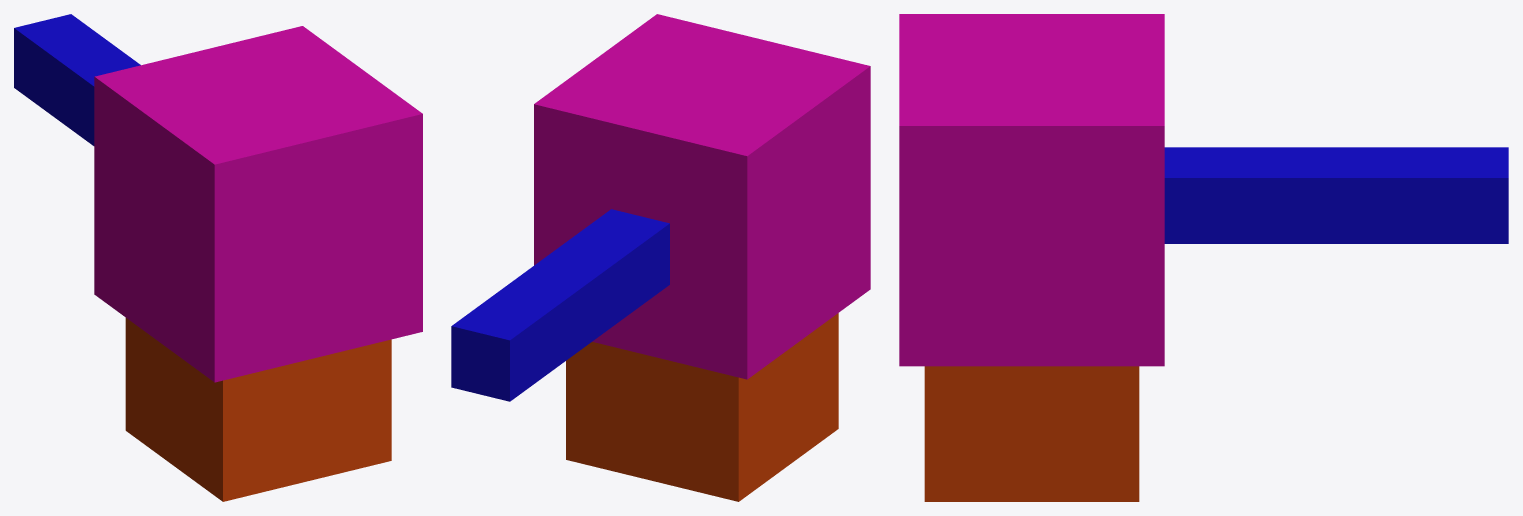
The model's file is Turret_Laser.obj.
3 renders of one model, left to right at view 1: azimuth 30°, elevation 25°; view 2: azimuth 150°, elevation 25°; view 3: azimuth 270°, elevation 25°, orthographic. The views are drawn at different scales.
Parts seen in each view (by area): view 1: Cube.001, Cube, Cube.002; view 2: Cube.001, Cube, Cube.002; view 3: Cube.001, Cube.002, Cube.
Boxes of the visible parts, box(x1,y1,x2,y2) form: Cube.001: box(94, 26, 422, 382); Cube: box(125, 318, 391, 501); Cube.002: box(14, 14, 140, 145); Cube.001: box(534, 14, 870, 379); Cube: box(566, 313, 838, 501); Cube.002: box(451, 209, 669, 401); Cube.001: box(899, 14, 1164, 366); Cube.002: box(1164, 147, 1508, 243); Cube: box(924, 366, 1139, 501).
Bounding box in the file's own units: 0.8015 × 1.29 × 1.84.
